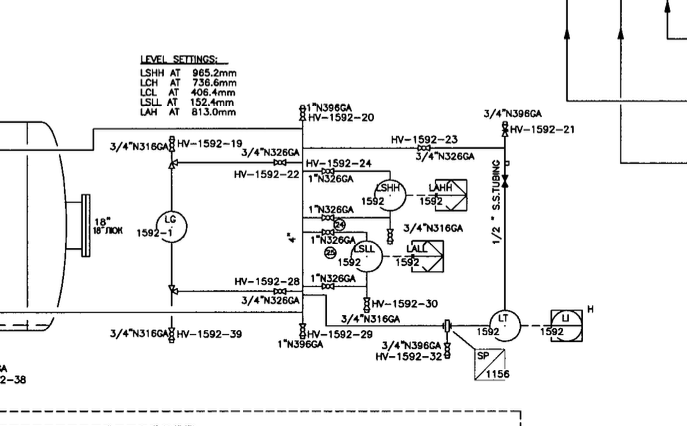Instrument-offset: (358, 177, 412, 215), (135, 206, 189, 244), (472, 308, 526, 343), (337, 237, 389, 273)
Instrument-square-offset: (394, 237, 450, 275), (421, 174, 470, 217), (540, 307, 588, 344)
